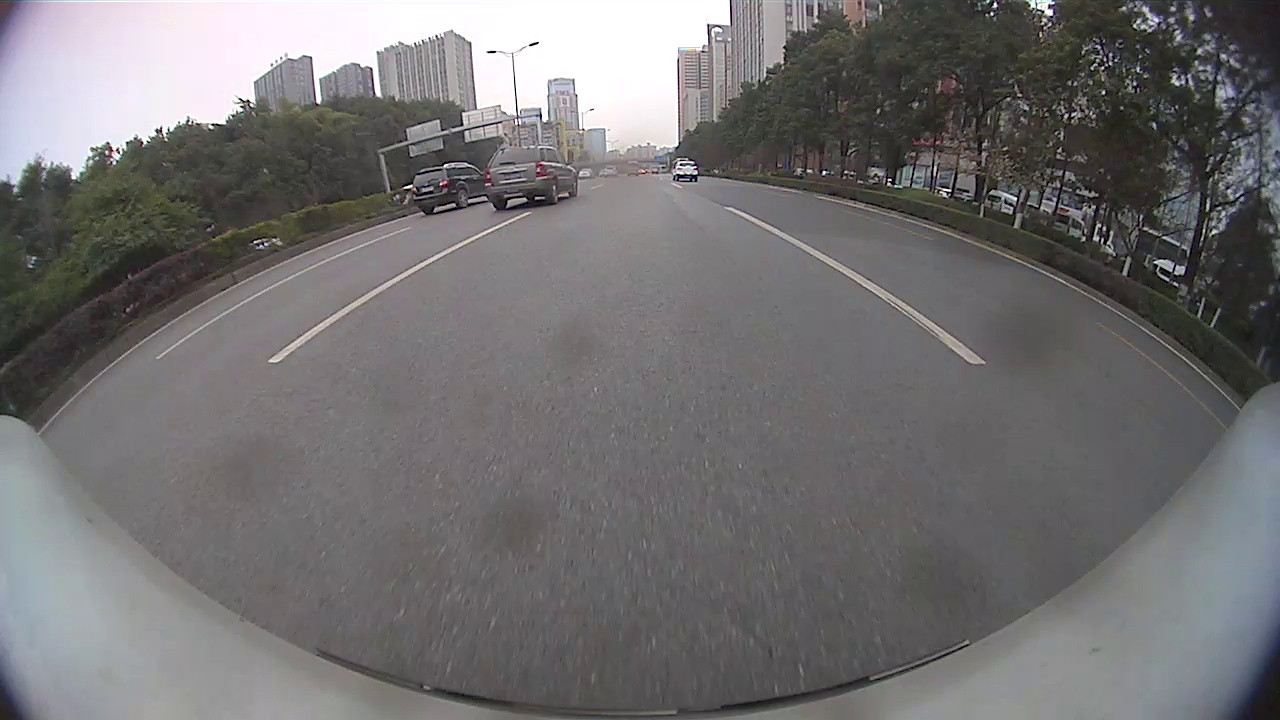car: (484, 146, 578, 213), (411, 161, 488, 216), (671, 160, 700, 183)
rear: (456, 188, 472, 213), (548, 181, 563, 205)
